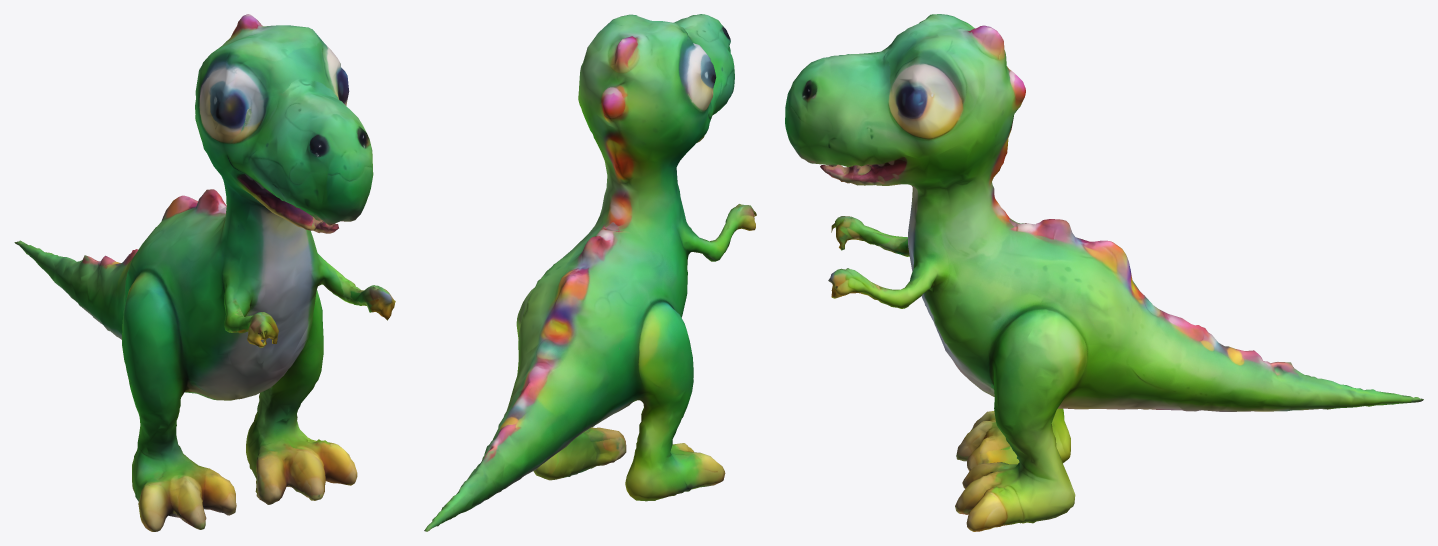
File: Create_a_3D_model_of__0911034401_refine.fbx
3 views of the same model, side by side, from view 1: azimuth 30°, elevation 25°; view 2: azimuth 150°, elevation 25°; view 3: azimuth 270°, elevation 25° (orthographic). The views are drawn at different scales.
Parts seen in each view (by area): view 1: Mesh_0; view 2: Mesh_0; view 3: Mesh_0.
Boxes of the visible parts, <box> form: Mesh_0: <box>14,14,395,531</box>; Mesh_0: <box>424,14,756,531</box>; Mesh_0: <box>785,14,1423,531</box>.
Bounding box in the file's own units: 43.06 × 96.5 × 120.
1 material, 1 textured.
